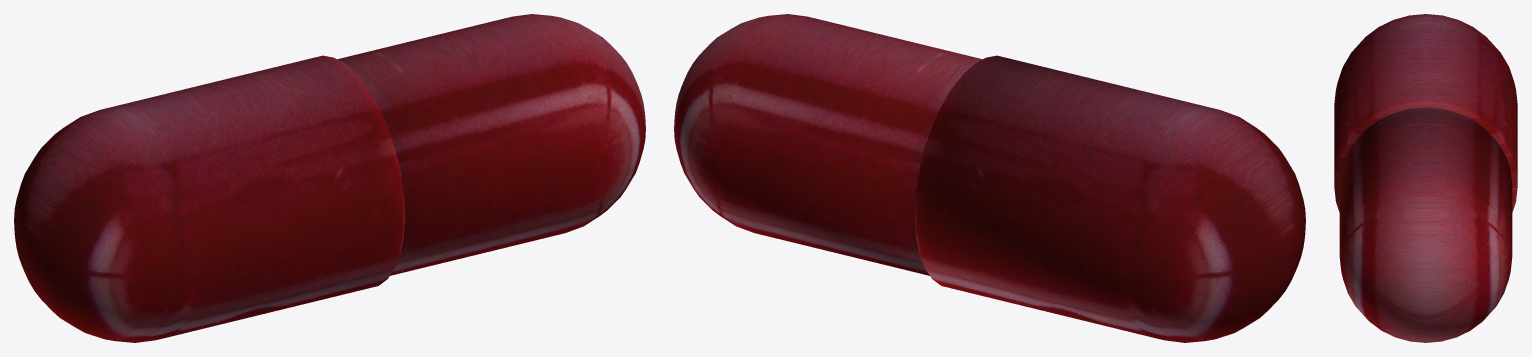
The model's file is 20180209GOPHDRGPT28467.fbx.
3 views of the same model, side by side, from view 1: azimuth 30°, elevation 25°; view 2: azimuth 150°, elevation 25°; view 3: azimuth 270°, elevation 25° (orthographic). The views are drawn at different scales.
Parts seen in each view (by area): view 1: 球體.025; view 2: 球體.025; view 3: 球體.025.
Part boxes in pixels (<box>): 球體.025: <box>14,14,645,342</box>; 球體.025: <box>674,14,1305,342</box>; 球體.025: <box>1334,14,1517,342</box>.
Size of the model in its own units: 2.3 by 0.7874 by 0.7874.
1 material, 1 textured.
